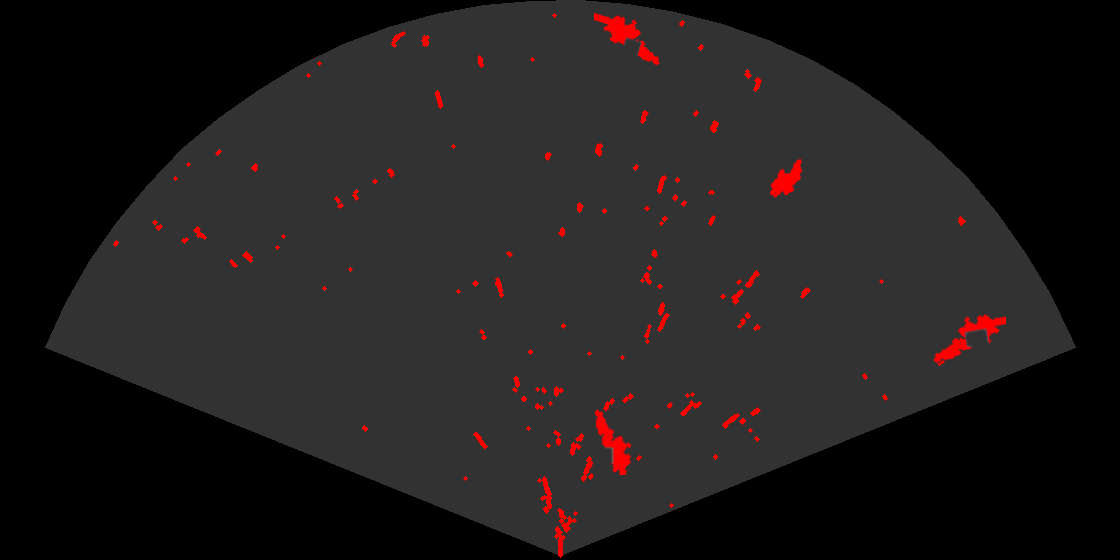AUV: (768, 157, 804, 199)
frogman: (932, 313, 1006, 364), (594, 11, 661, 67), (593, 408, 633, 475)
